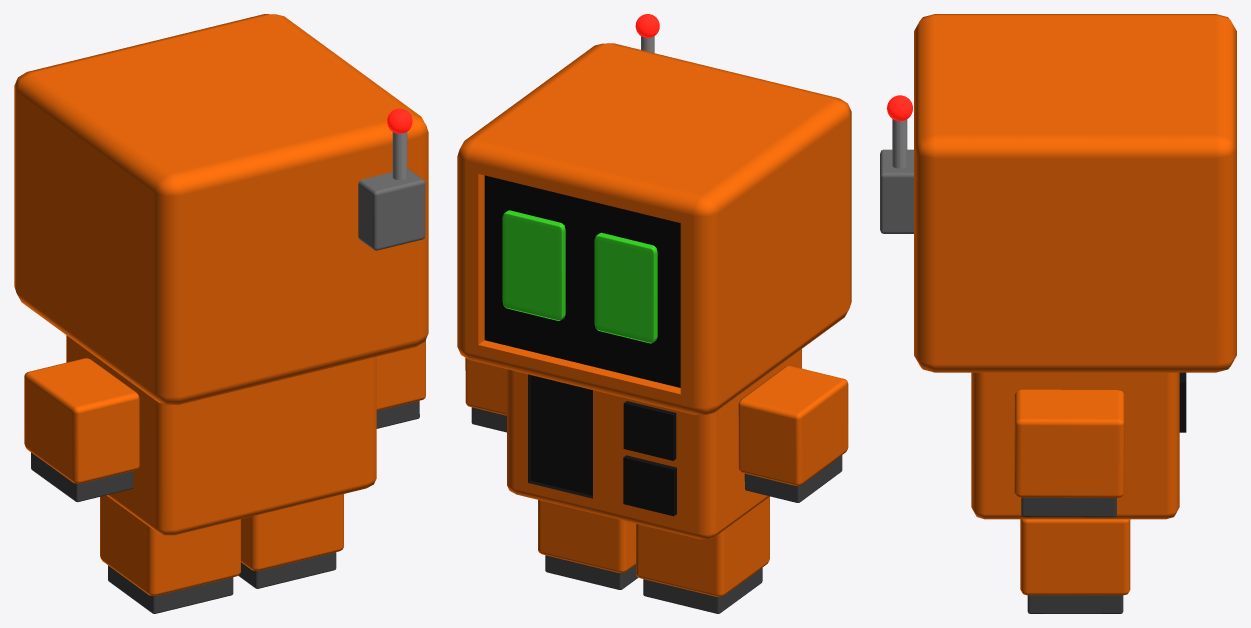
Rendered from GigaRobot.fbx.
3 renders of one model, left to right at view 1: azimuth 30°, elevation 25°; view 2: azimuth 150°, elevation 25°; view 3: azimuth 270°, elevation 25°, orthographic. The views are drawn at different scales.
Visible parts, largest first — view 1: Head, Body, LArm, LFoot, RFoot, RadioBox, RArm, Cylinder; view 2: Head, Body, Eyes, LArm, LFoot, RFoot, RArm; view 3: Head, Body, RArm, RFoot, RadioBox, Cylinder, Antrna.
Boxes of the visible parts, x1,y1,x2,y2 form: Head: (14, 14, 428, 404); Body: (66, 335, 376, 535); LArm: (24, 358, 139, 501); LFoot: (100, 495, 240, 613); RFoot: (238, 494, 343, 588); RadioBox: (358, 169, 425, 250); RArm: (376, 340, 425, 428); Cylinder: (392, 132, 407, 180); Head: (457, 43, 851, 414); Body: (507, 349, 801, 539); Eyes: (502, 210, 657, 343); LArm: (738, 366, 848, 502); LFoot: (636, 497, 769, 613); RFoot: (538, 500, 638, 589); RArm: (465, 358, 506, 432); Head: (914, 14, 1236, 372); Body: (971, 372, 1186, 519); RArm: (1014, 389, 1124, 517); RFoot: (1020, 519, 1130, 613); RadioBox: (880, 149, 913, 233); Cylinder: (892, 119, 907, 168); Antrna: (887, 95, 912, 121).
Bounding box in the file's own units: 160 × 219 × 137.
